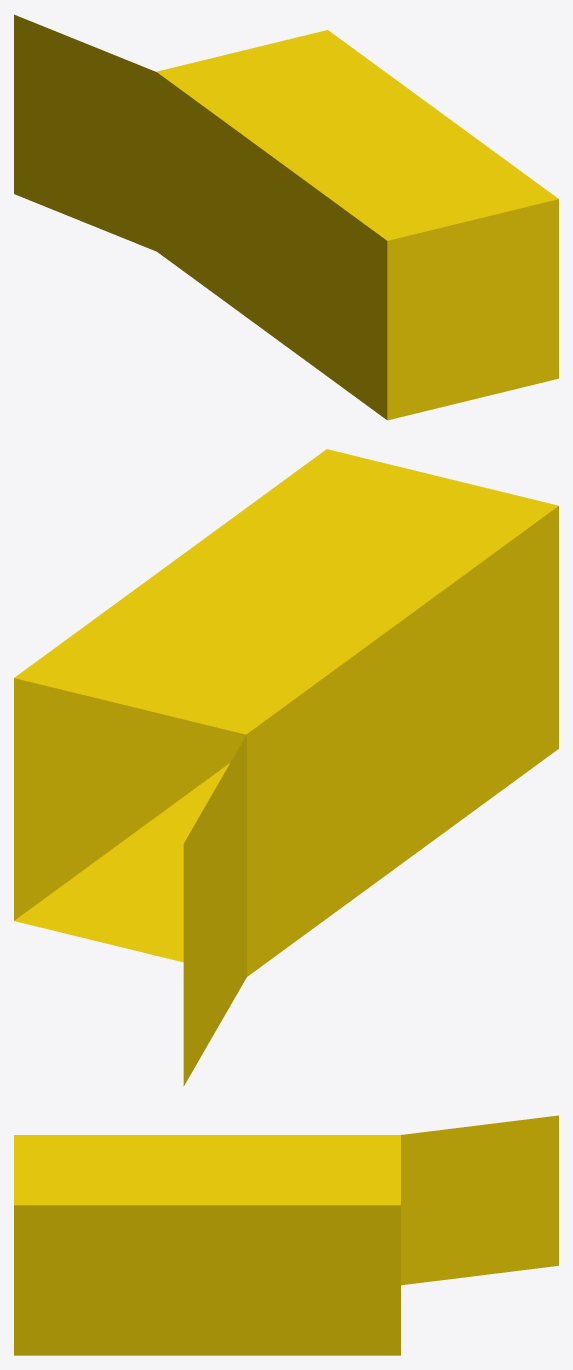
The model's file is ContainerOpenFA.glb.
3 views of the same model, one above another, from view 1: azimuth 30°, elevation 25°; view 2: azimuth 150°, elevation 25°; view 3: azimuth 270°, elevation 25° (orthographic). The views are drawn at different scales.
Visible parts, largest first — view 1: Cube.001; view 2: Cube.001; view 3: Cube.001.
Part boxes in pixels (x1,y1,x2,y2): Cube.001: (14, 14, 558, 420); Cube.001: (14, 449, 558, 1086); Cube.001: (14, 1115, 558, 1355).
Bounding box in the file's own units: 7.68 × 6 × 19.71.
1 material, 1 textured.
